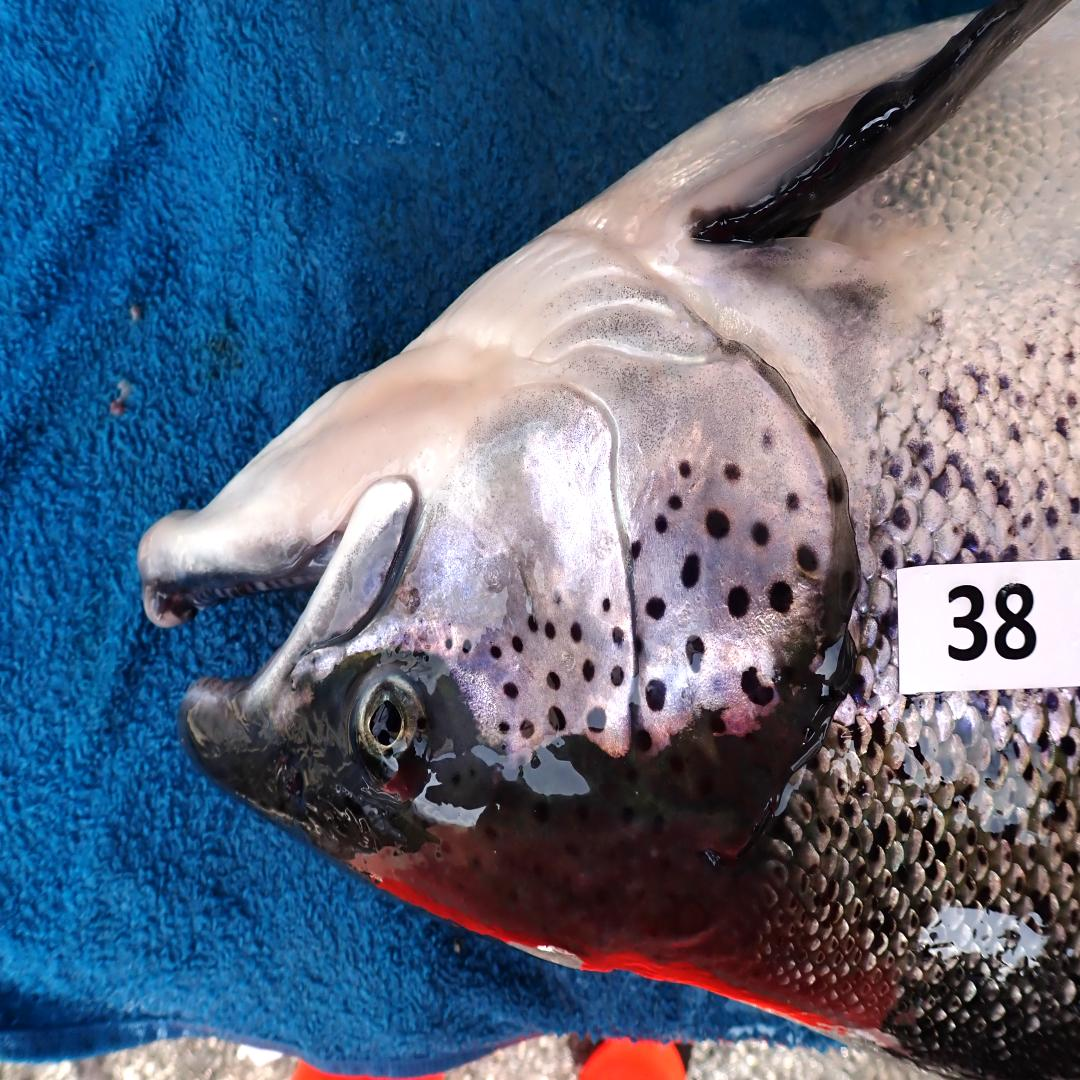roi: (415, 220, 843, 757)
